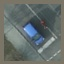car: (22, 21, 44, 45)
